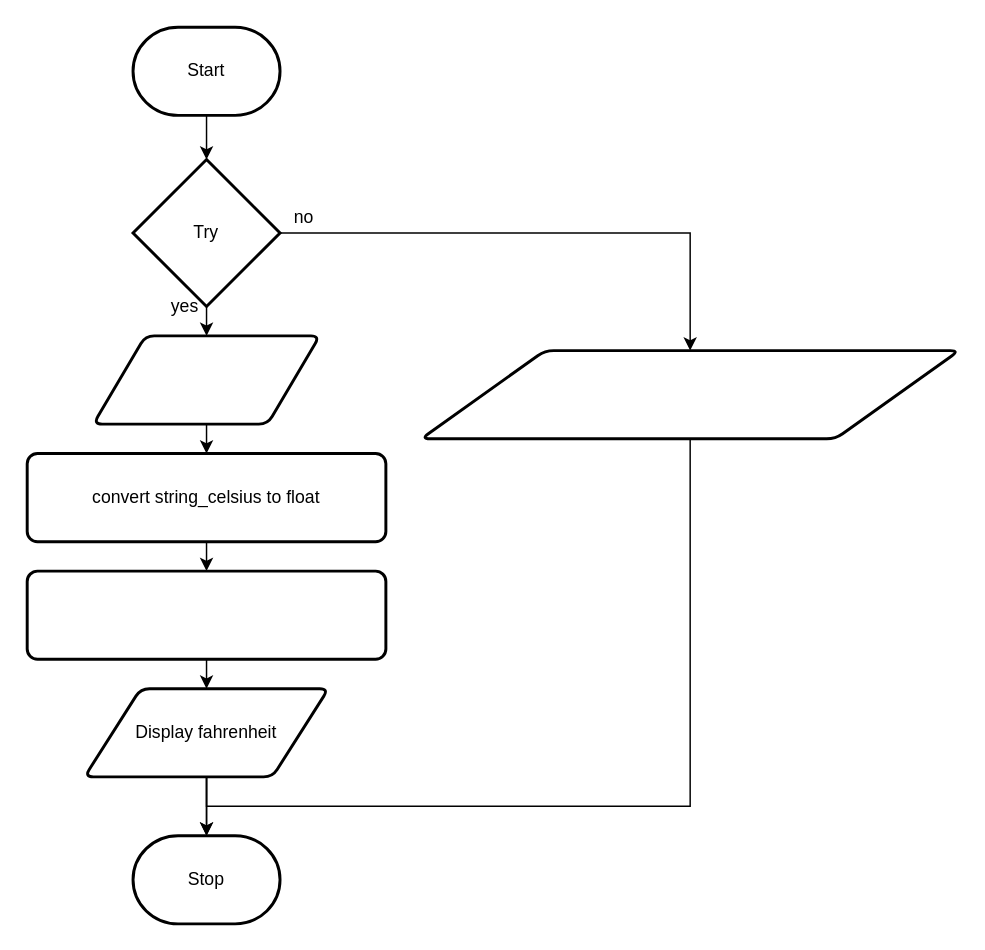
The diagram is 985 pixels wide and 950 high, and some of its shapes have lost their labels. The shapes that lost their labels are listed below. From the top down, each one's box as (x1, y1, x2, y2) in pixels, then its label:
(91, 334, 320, 425): Get string_celsius
(419, 348, 960, 440): Print "please enter a valid temperature"
(25, 569, 387, 660): fahrenheit = 32 + (celcius * 9 / 5)
